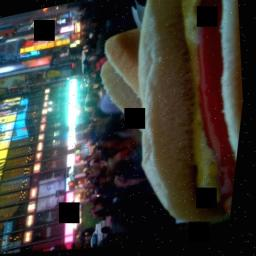hotdog: (97, 0, 256, 245)
